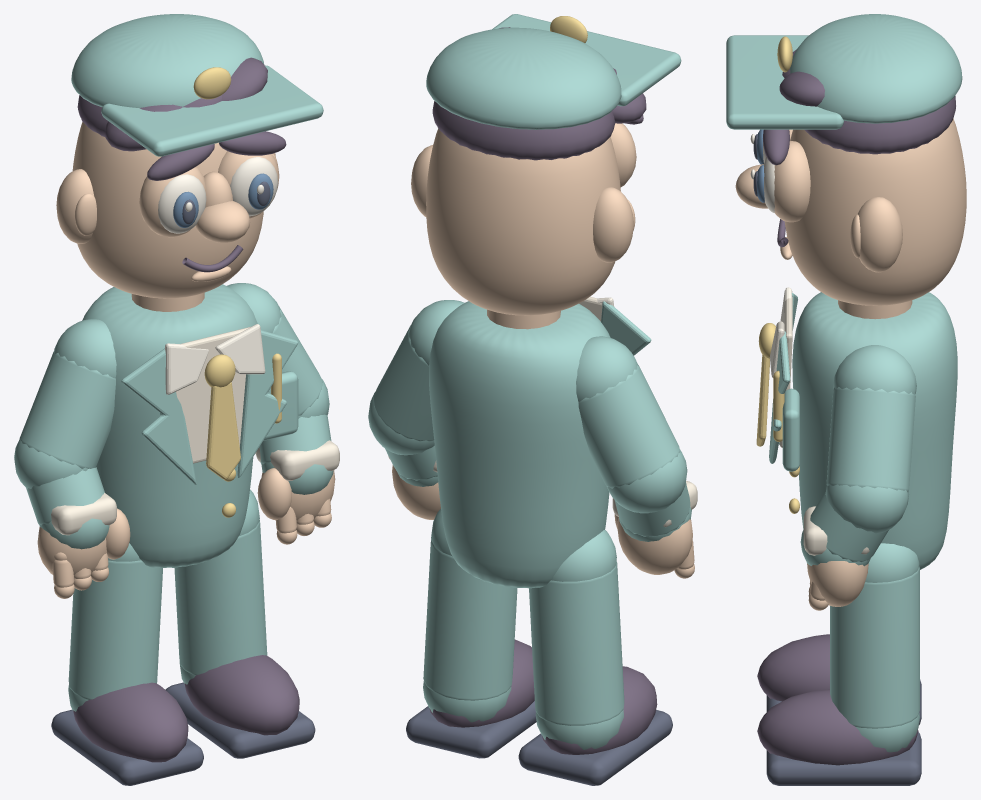
Rendered from Milo.fbx.
3 renders of one model, left to right at view 1: azimuth 30°, elevation 25°; view 2: azimuth 150°, elevation 25°; view 3: azimuth 270°, elevation 25°, orthographic.
Parts seen in each view (by area): view 1: Tailored silhouette.004, Sculpted face.004, Cap crown.001, Trouser leg.008, Trouser leg.009, Curved cap peak.001, Upper sleeve.008, Polished shoe.008, Polished shoe.009, Notched lapel.008, Shoe sole.008, Notched lapel.009 (+36 smaller); view 2: Tailored silhouette.004, Sculpted face.004, Cap crown.001, Trouser leg.008, Trouser leg.009, Upper sleeve.008, Hair cap.003, Upper sleeve.009, Shoe sole.008, Curved cap peak.001, Shoe sole.009, Polished shoe.008 (+19 smaller); view 3: Sculpted face.004, Tailored silhouette.004, Cap crown.001, Trouser leg.009, Upper sleeve.009, Curved cap peak.001, Polished shoe.009, Shoe sole.009, Hair cap.003, Polished shoe.008, Upper sleeve shoulder.009, Upper sleeve joint.009 (+20 smaller).
Part boxes in pixels (x1,y1,x2,y2): Tailored silhouette.004: [82, 284, 257, 567]; Sculpted face.004: [72, 122, 263, 298]; Cap crown.001: [71, 14, 264, 107]; Trouser leg.008: [68, 560, 162, 699]; Trouser leg.009: [174, 520, 267, 675]; Curved cap peak.001: [101, 65, 323, 156]; Upper sleeve.008: [19, 351, 115, 468]; Polished shoe.008: [73, 682, 188, 762]; Polished shoe.009: [184, 655, 299, 735]; Notched lapel.008: [121, 348, 196, 484]; Shoe sole.008: [51, 709, 203, 785]; Notched lapel.009: [237, 330, 298, 477]; Tailored silhouette.004: [429, 301, 610, 588]; Sculpted face.004: [426, 128, 620, 315]; Cap crown.001: [426, 27, 621, 129]; Trouser leg.008: [529, 561, 624, 725]; Trouser leg.009: [423, 539, 517, 700]; Upper sleeve.008: [578, 365, 680, 488]; Hair cap.003: [432, 101, 615, 160]; Upper sleeve.009: [373, 325, 434, 441]; Shoe sole.008: [518, 710, 672, 785]; Curved cap peak.001: [492, 14, 681, 106]; Shoe sole.009: [406, 701, 536, 758]; Polished shoe.008: [542, 666, 657, 754]; Sculpted face.004: [784, 118, 966, 305]; Tailored silhouette.004: [792, 292, 957, 569]; Cap crown.001: [790, 14, 962, 123]; Trouser leg.009: [830, 566, 919, 728]; Upper sleeve.009: [826, 387, 915, 492]; Curved cap peak.001: [726, 35, 843, 129]; Polished shoe.009: [757, 689, 918, 765]; Shoe sole.009: [766, 732, 921, 785]; Hair cap.003: [804, 96, 955, 154]; Polished shoe.008: [757, 634, 829, 701]; Upper sleeve shoulder.009: [833, 345, 916, 394]; Upper sleeve joint.009: [825, 484, 909, 533].
Size of the model in its own units: 115 by 77.56 by 252.
